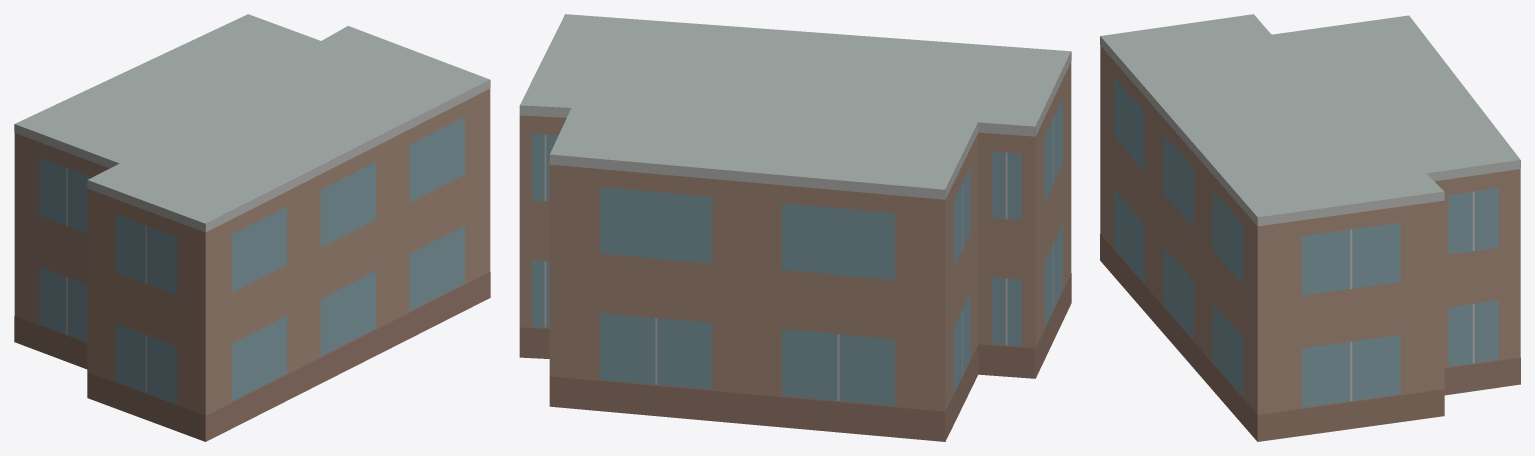
The model's file is survey-upis-32508377.glb.
3 renders of one model, left to right at view 1: azimuth 30°, elevation 25°; view 2: azimuth 150°, elevation 25°; view 3: azimuth 270°, elevation 25°, orthographic. The views are drawn at different scales.
Visible parts, largest first — view 1: survey-upis-32508377.tmp; view 2: survey-upis-32508377.tmp; view 3: survey-upis-32508377.tmp.
Boxes of the visible parts, bbox=[...] form: survey-upis-32508377.tmp: bbox=[14, 14, 490, 441]; survey-upis-32508377.tmp: bbox=[519, 14, 1071, 441]; survey-upis-32508377.tmp: bbox=[1100, 14, 1520, 441].
Bounding box in the file's own units: 11.87 × 6.1 × 10.37.
